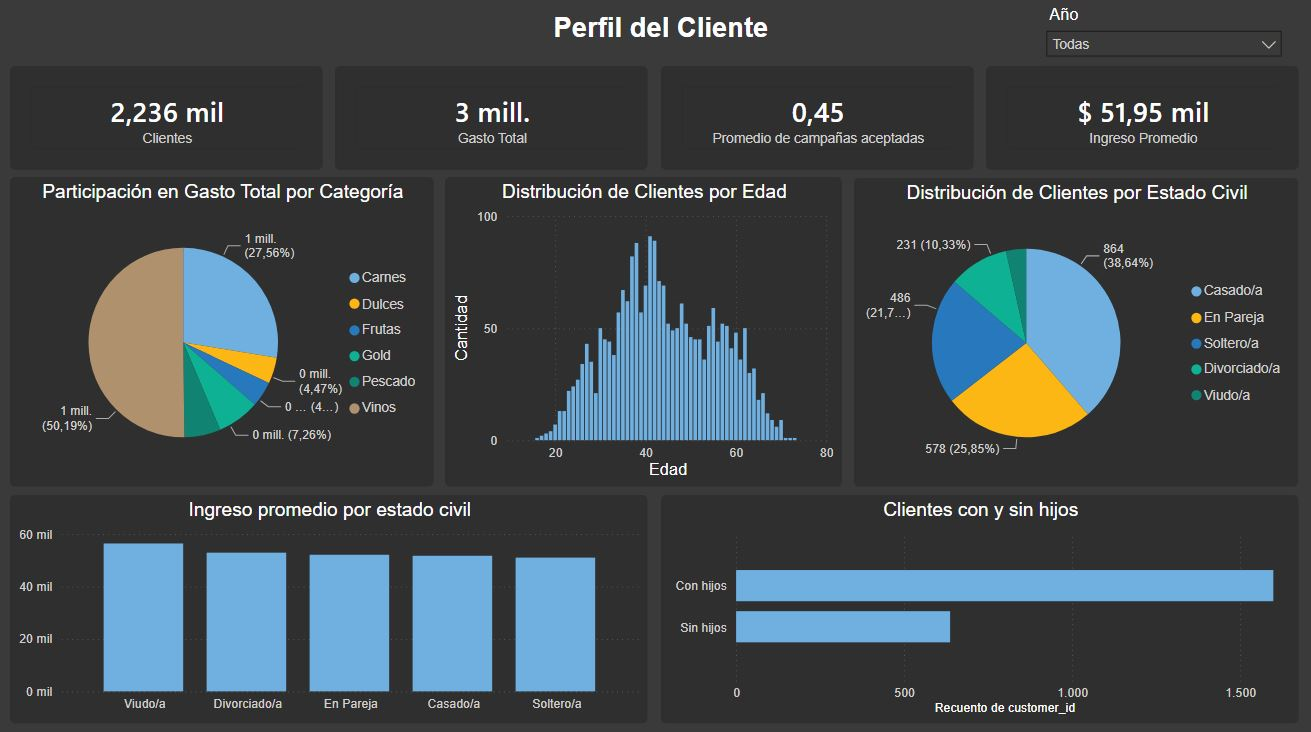

This screenshot's page, from the dashboard's own definition file:
{"tool":"powerbi","page":{"name":"Perfil del Cliente","canvas":[1280,720],"ordinal":1},"visuals":[{"type":"textbox","box":[505,14,280,49],"z":0},{"type":"clusteredColumnChart","title":"Distribución de Clientes por Edad","fields":{"Category":["dim_customer.Age"],"Y":["CountNonNull(dim_customer.customer_id)"]},"box":[435,179,386,301],"z":1000},{"type":"pieChart","title":"Distribución de Clientes por Estado Civil","fields":{"Category":["dim_customer.Marital_Status"],"Y":["CountNonNull(dim_customer.customer_id)"]},"box":[833,180,432,300],"z":2000},{"type":"clusteredBarChart","title":"Clientes con y sin hijos","fields":{"Category":["dim_customer.Has_Children"],"Y":["CountNonNull(dim_customer.customer_id)"]},"box":[645,488,620,222],"z":3000},{"type":"pieChart","title":"Participación en Gasto Total por Categoría","fields":{"Y":["_Medidas.Total Carnes","_Medidas.Total Dulces","_Medidas.Total Frutas","_Medidas.Total Gold","_Medidas.Total Pescado","_Medidas.Total Vinos"]},"box":[12,179,412,301],"z":5000},{"type":"clusteredColumnChart","title":"Ingreso promedio por estado civil","fields":{"Category":["dim_customer.Marital_Status"],"Y":["Avg(dim_customer.Income)"]},"box":[12,488,620,222],"z":6000},{"type":"cardVisual","fields":{"Data":["Count(fact_purchases.customer_id)"]},"box":[12,71,304,101],"z":7000},{"type":"cardVisual","fields":{"Data":["Sum(fact_purchases.Total_Spending)"]},"box":[328,71,304,101],"z":8000},{"type":"cardVisual","fields":{"Data":["Avg(fact_purchases.Total_Campaigns_Accepted)"]},"box":[645,71,304,101],"z":9000},{"type":"cardVisual","fields":{"Data":["Avg(dim_customer.Income)"]},"box":[961,71,304,101],"z":10000},{"type":"slicer","fields":{"Values":["dim_fecha.year"]},"box":[1010,7,249,64],"z":11000}]}

Visuals, with their boxes in screenshot pixels (x1, y1, x2, y2), scaled from the page's 1280x720 canvas onto the 1311x732 screenshot:
textbox: left=517, top=14, right=804, bottom=64
"Distribución de Clientes por Edad" clusteredColumnChart: left=446, top=182, right=841, bottom=488
"Distribución de Clientes por Estado Civil" pieChart: left=853, top=183, right=1296, bottom=488
"Clientes con y sin hijos" clusteredBarChart: left=661, top=496, right=1296, bottom=722
"Participación en Gasto Total por Categoría" pieChart: left=12, top=182, right=434, bottom=488
"Ingreso promedio por estado civil" clusteredColumnChart: left=12, top=496, right=647, bottom=722
cardVisual - Count(fact_purchases.customer_id): left=12, top=72, right=324, bottom=175
cardVisual - Sum(fact_purchases.Total_Spending): left=336, top=72, right=647, bottom=175
cardVisual - Avg(fact_purchases.Total_Campaigns_Accepted): left=661, top=72, right=972, bottom=175
cardVisual - Avg(dim_customer.Income): left=984, top=72, right=1296, bottom=175
slicer - dim_fecha.year: left=1034, top=7, right=1289, bottom=72
